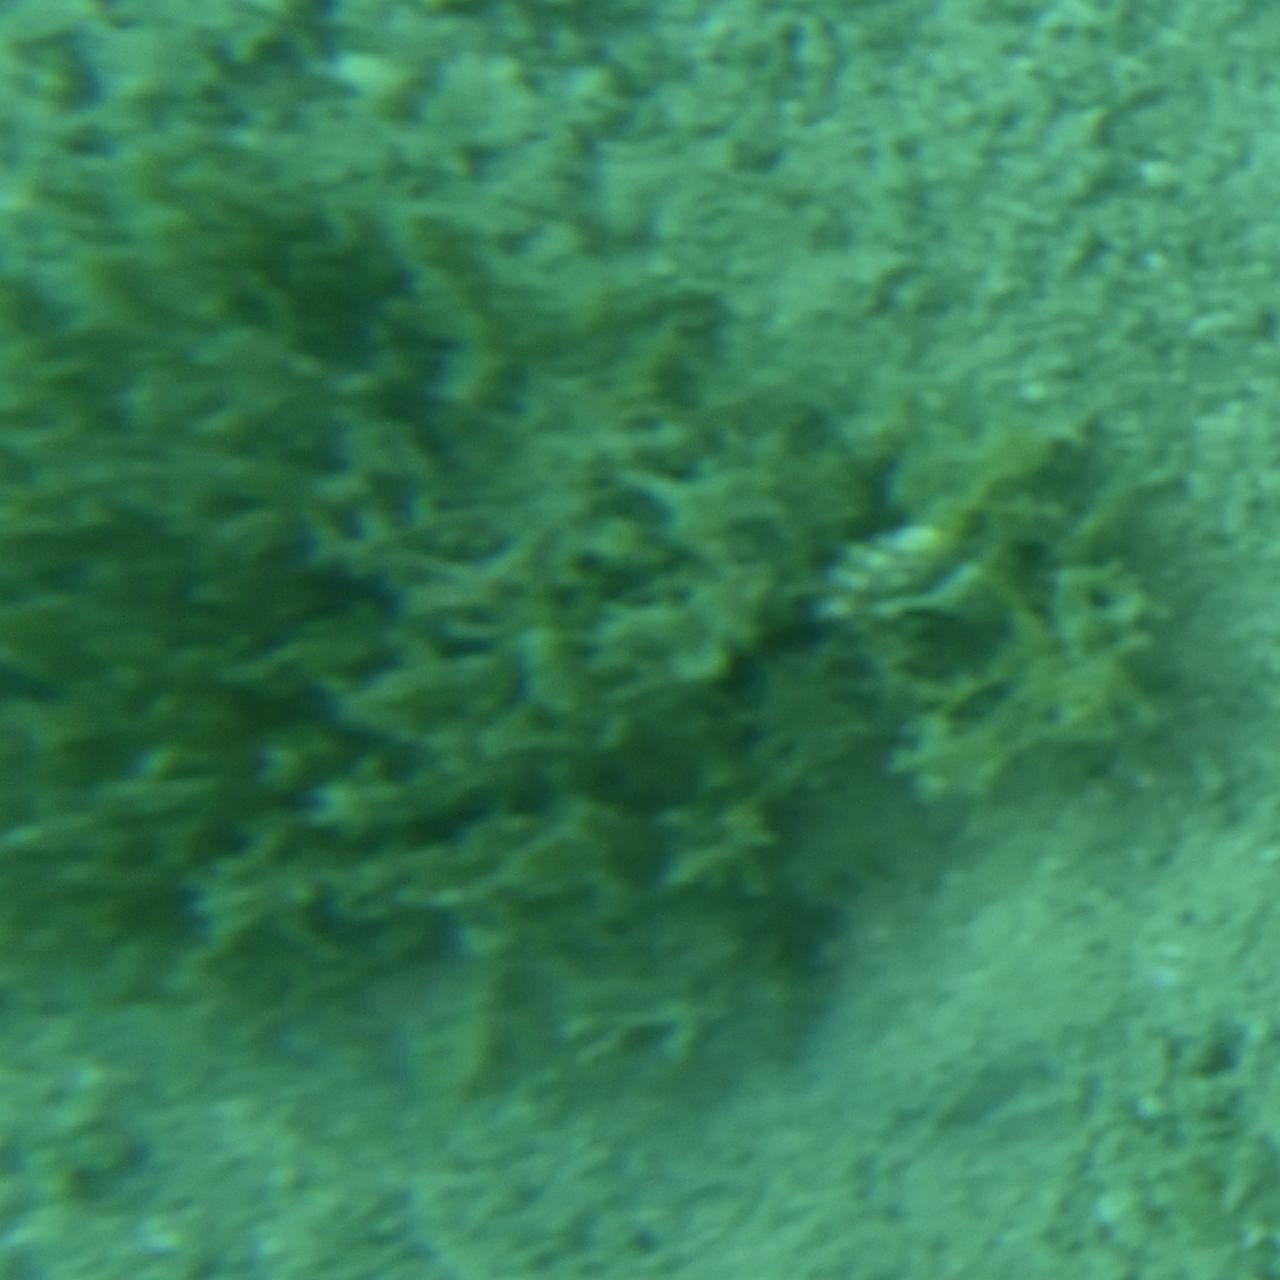Phaeophyceae -cfr Cystoseira-: (0, 137, 1180, 1143)
